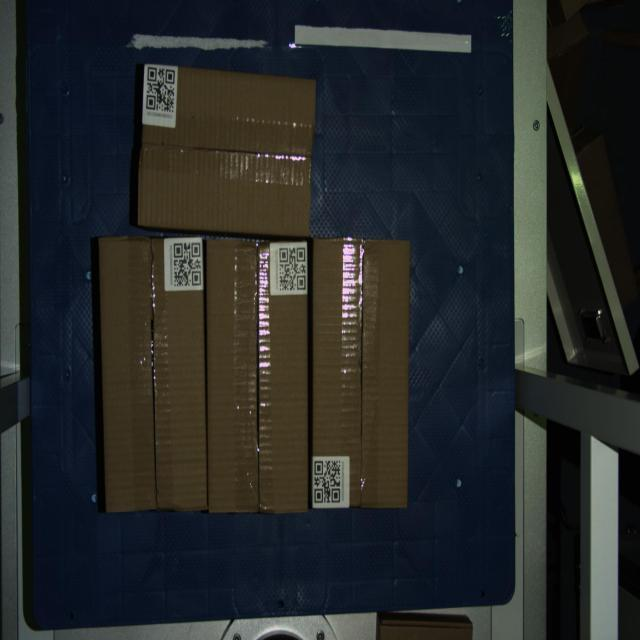box: (137, 62, 316, 236), (98, 237, 208, 513), (207, 241, 309, 514), (312, 237, 410, 509)
